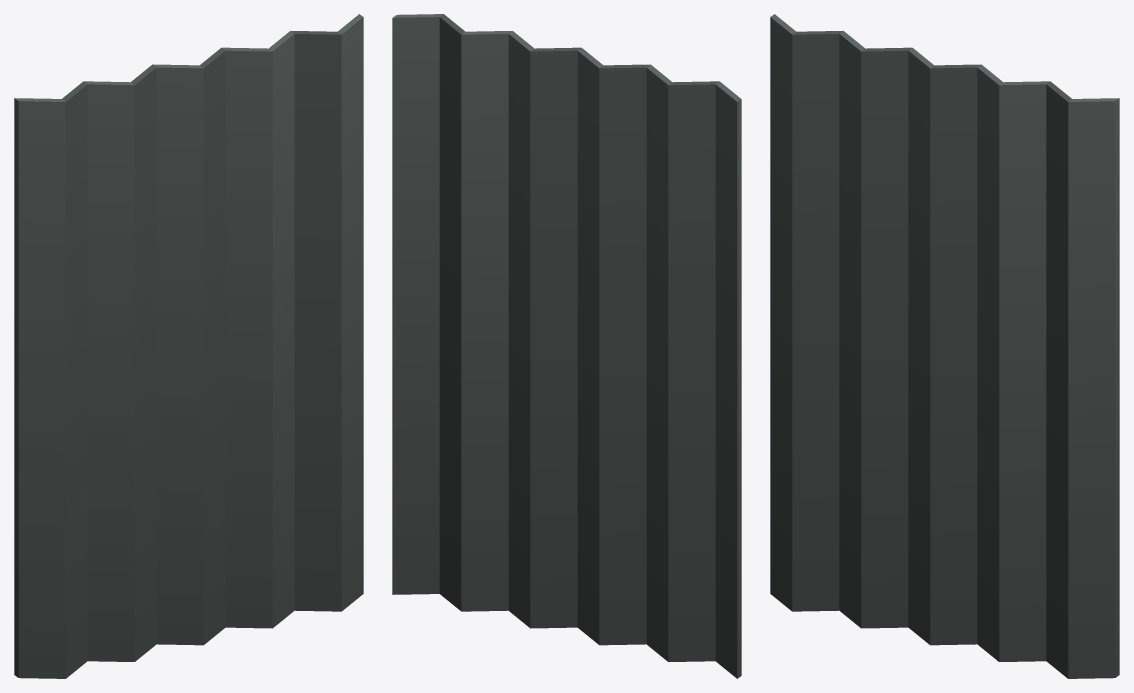
Rendered from Prop_Metal_Sheet_01.obj.
The picture shows the model from 3 angles, left to right: view 1: azimuth 30°, elevation 25°; view 2: azimuth 150°, elevation 25°; view 3: azimuth 330°, elevation 25°; orthographic projection.
Visible parts, largest first — view 1: Prop_Metal_Sheet_01; view 2: Prop_Metal_Sheet_01; view 3: Prop_Metal_Sheet_01.
Part boxes in pixels (bbox=[...]): Prop_Metal_Sheet_01: bbox=[14, 14, 363, 678]; Prop_Metal_Sheet_01: bbox=[392, 14, 741, 678]; Prop_Metal_Sheet_01: bbox=[770, 14, 1119, 678].
Size of the model in its own units: 1.07 by 1.7 by 0.0902.
Materials: 1 (1 with a texture image).
